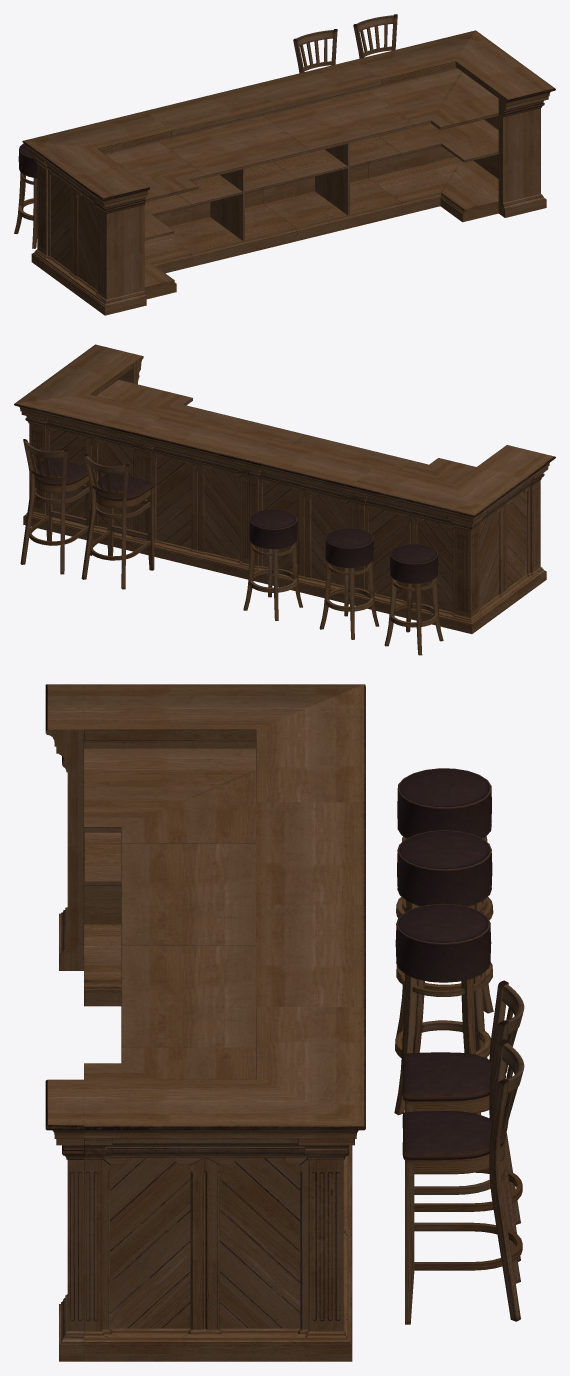
The model's file is pub_counter.glb.
3 renders of one model, top to bottom at view 1: azimuth 30°, elevation 25°; view 2: azimuth 150°, elevation 25°; view 3: azimuth 270°, elevation 25°, orthographic. The views are drawn at different scales.
Parts seen in each view (by area): view 1: re_bar_center_4, re_bar_center (1)_9, re_bar_side_L (1)_10, re_bar_side_L_2, re_bar_side_R (1)_11, re_bar_side_R_5, re_bar_end_L_1, re_bar_end_R_3, re_ho_02_0, re_ho_01 (2)_7, re_ho_01 (1)_8; view 2: re_bar_center_4, re_bar_side_R_5, re_bar_center (1)_9, re_bar_side_L (1)_10, re_bar_side_L_2, re_ho_01 (2)_7, re_bar_side_R (1)_11, re_ho_01 (1)_8, re_ho_02_0, re_ho_02 (2)_12, re_ho_02 (1)_6, re_bar_end_R_3 (+1 smaller); view 3: re_bar_side_R (1)_11, re_bar_side_L (1)_10, re_bar_center_4, re_bar_center (1)_9, re_bar_side_R_5, re_bar_side_L_2, re_ho_01 (1)_8, re_ho_02 (2)_12, re_ho_01 (2)_7, re_ho_02 (1)_6, re_bar_end_R_3, re_bar_end_L_1 (+1 smaller).
Part boxes in pixels (<box>): re_bar_center_4: <box>250,60,414,240</box>; re_bar_center (1)_9: <box>145,85,310,266</box>; re_bar_side_L (1)_10: <box>22,140,198,310</box>; re_bar_side_L_2: <box>355,30,474,215</box>; re_bar_side_R (1)_11: <box>431,30,545,222</box>; re_bar_side_R_5: <box>24,111,205,273</box>; re_bar_end_L_1: <box>498,81,555,217</box>; re_bar_end_R_3: <box>93,180,149,315</box>; re_ho_02_0: <box>14,143,37,248</box>; re_ho_01 (2)_7: <box>293,29,337,73</box>; re_ho_01 (1)_8: <box>353,14,397,58</box>; re_bar_center_4: <box>138,409,305,579</box>; re_bar_side_R_5: <box>351,461,474,633</box>; re_bar_center (1)_9: <box>244,435,412,604</box>; re_bar_side_L (1)_10: <box>429,451,545,633</box>; re_bar_side_L_2: <box>14,394,199,553</box>; re_ho_01 (2)_7: <box>81,454,154,589</box>; re_bar_side_R (1)_11: <box>16,351,192,516</box>; re_ho_01 (1)_8: <box>20,439,92,574</box>; re_ho_02_0: <box>384,544,443,655</box>; re_ho_02 (2)_12: <box>243,509,302,620</box>; re_ho_02 (1)_6: <box>319,528,379,639</box>; re_bar_end_R_3: <box>498,445,555,583</box>; re_bar_side_R (1)_11: <box>84,1063,365,1361</box>; re_bar_side_L (1)_10: <box>84,684,362,1006</box>; re_bar_center_4: <box>121,904,365,1231</box>; re_bar_center (1)_9: <box>121,802,365,945</box>; re_bar_side_R_5: <box>121,684,365,842</box>; re_bar_side_L_2: <box>121,1007,365,1344</box>; re_ho_01 (1)_8: <box>402,1039,524,1324</box>; re_ho_02 (2)_12: <box>394,903,491,1115</box>; re_ho_01 (2)_7: <box>402,980,524,1261</box>; re_ho_02 (1)_6: <box>396,830,493,1036</box>; re_bar_end_R_3: <box>45,684,83,970</box>; re_bar_end_L_1: <box>45,1079,83,1361</box>.
Bounding box in the file's own units: 4.33 × 1.1 × 1.98.
5 materials, 5 textured.
